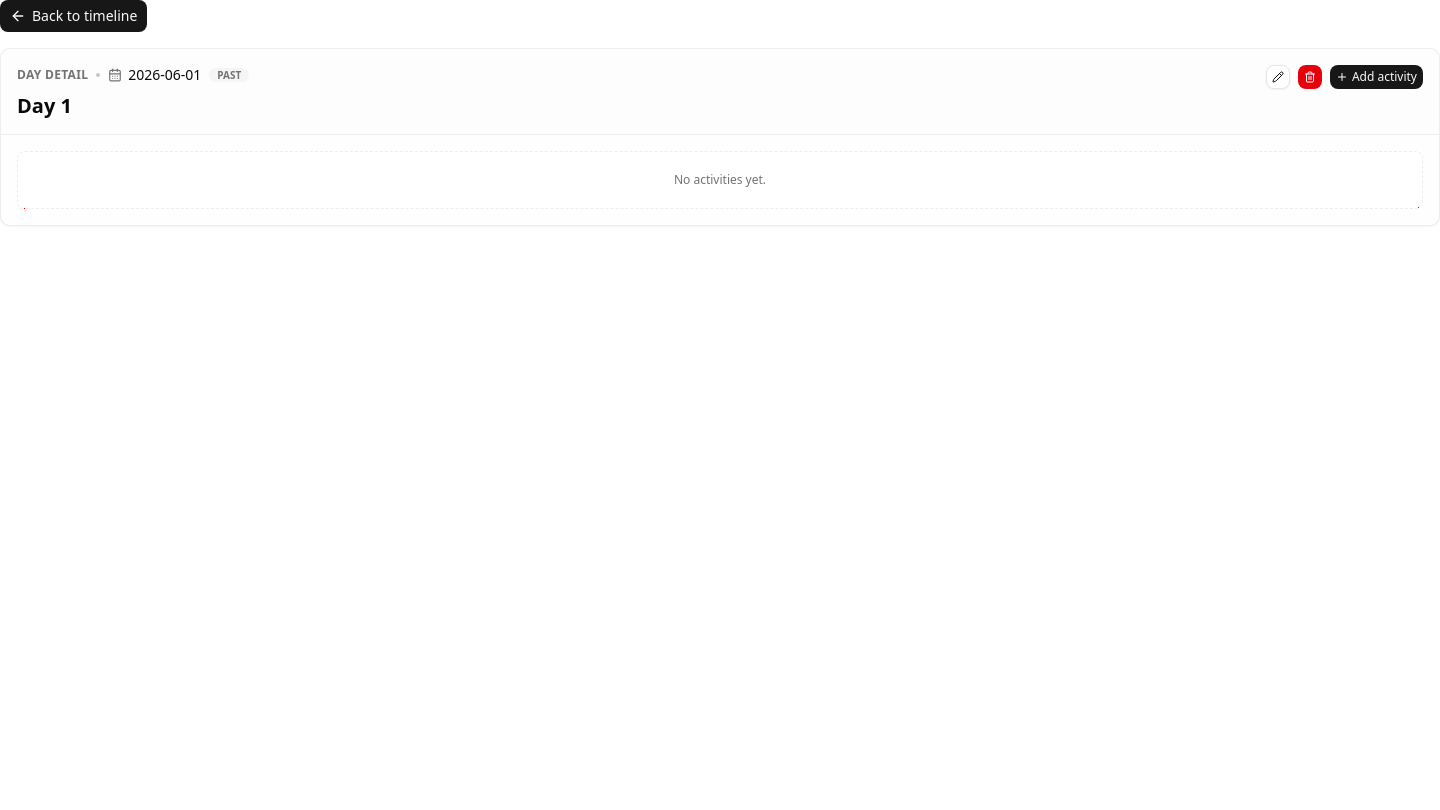
TimelineTab › confirms deleting an empty in-range day without promising activity deletion
The width and height of the screenshot is (1440, 810).
What coordinates should you click on to do the following:
click the button named "Delete Day 1"
I would click on:
 (1310, 77)
Its box is [1298,65,1322,89].
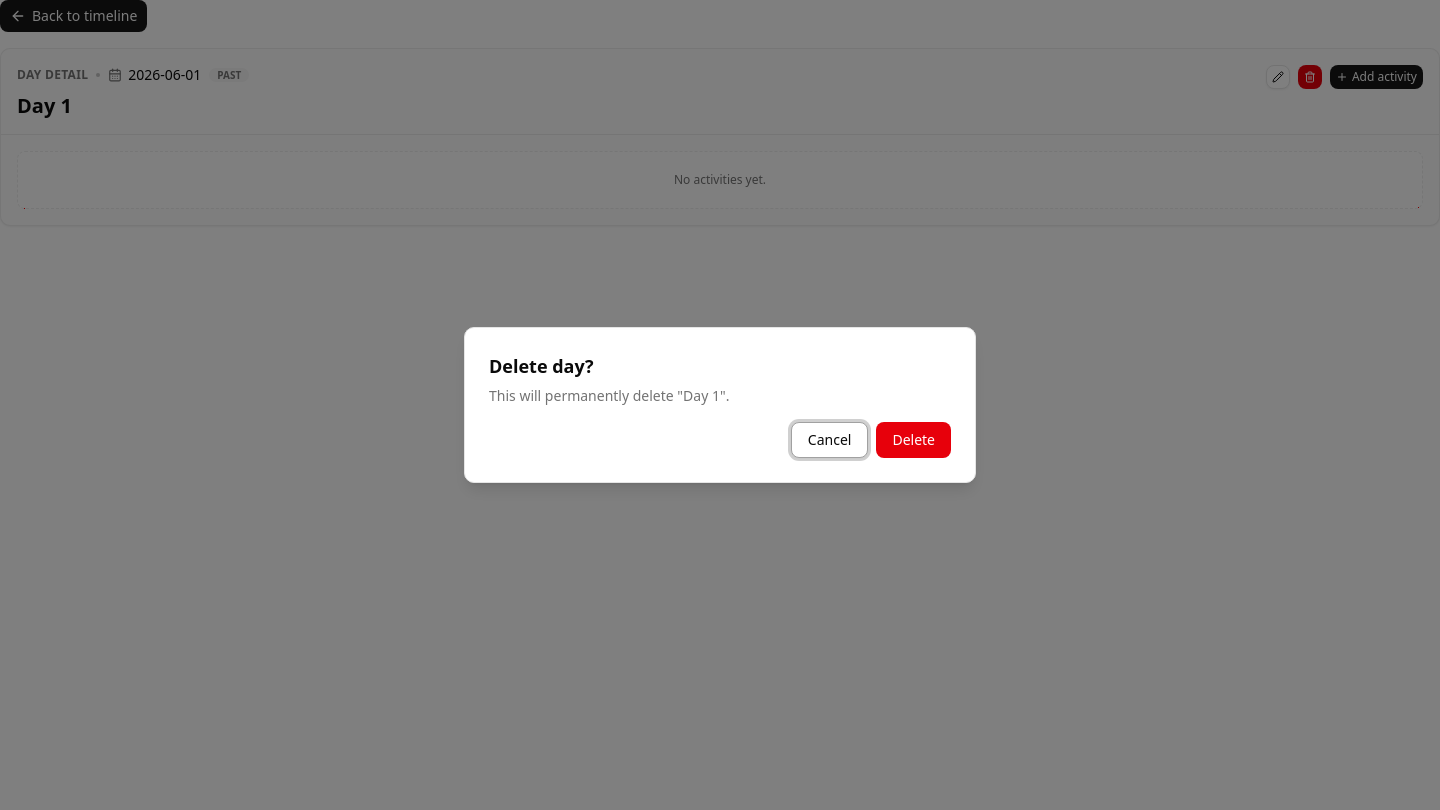
Now the heading "Delete day?" is shown, box [489,352,594,380]
Now the text "This will permanently delete \"Day 1\"." is shown, box [489,386,729,406]
